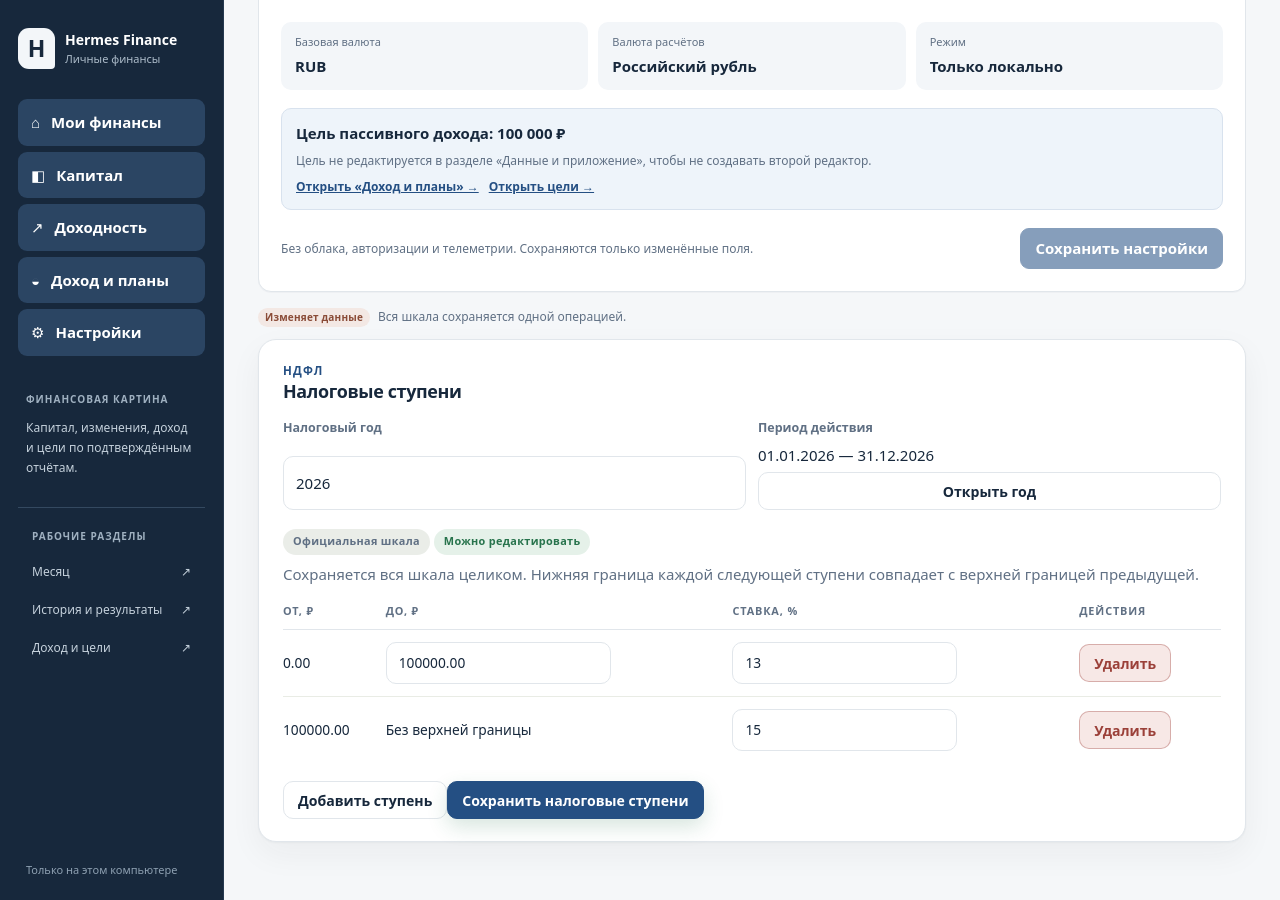
Test case: UI v2 Data/App › rejects a non-contiguous tax edit before the whole-set PUT
(page scrolled)
Clear the field named "Верхняя граница ступени 1" at (498, 663), box [386,642,611,684]
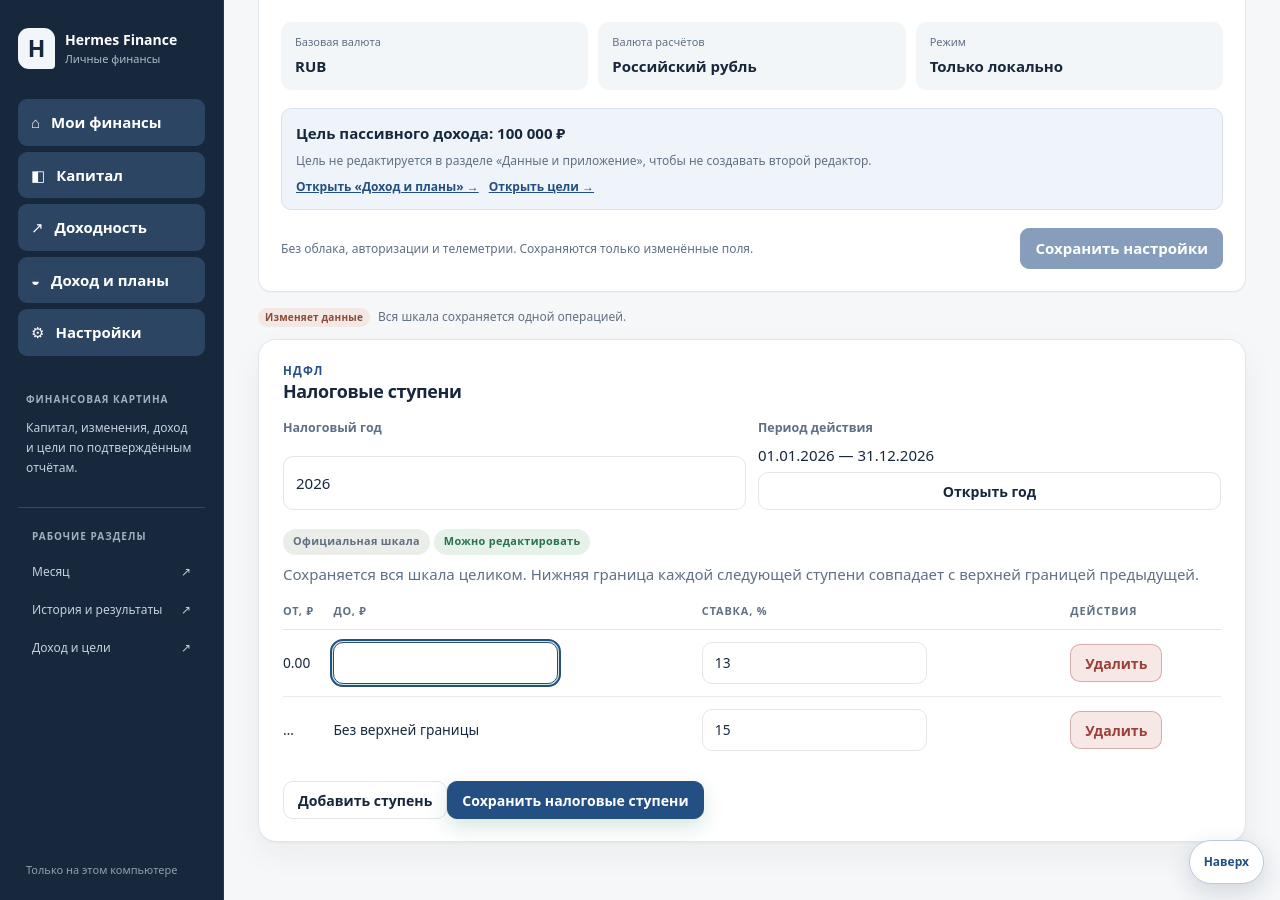
Type "0" into the field named "Верхняя граница ступени 1" at (446, 663), box [333,642,558,684]
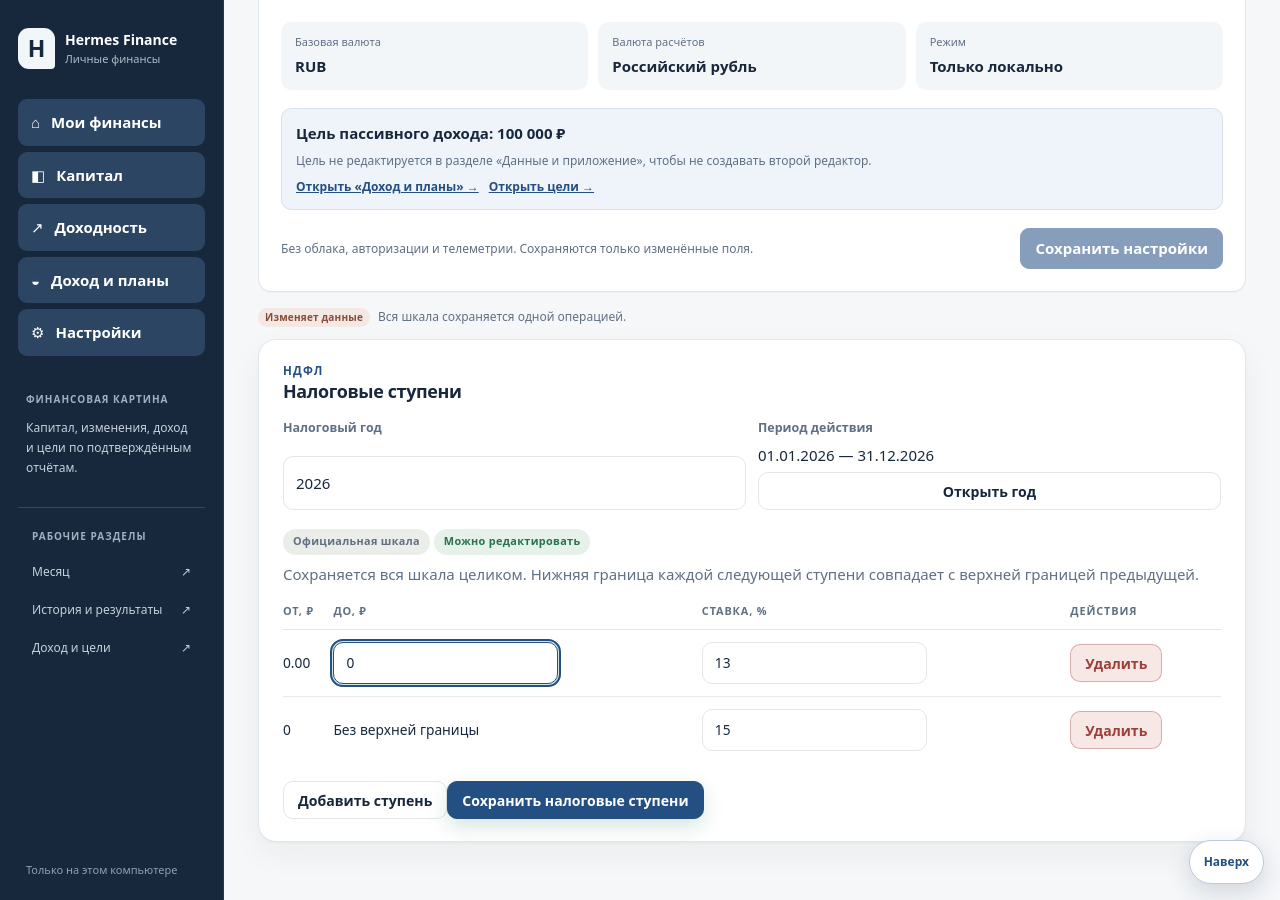
Click the button "Сохранить налоговые ступени" at (575, 800), box [447,781,704,819]
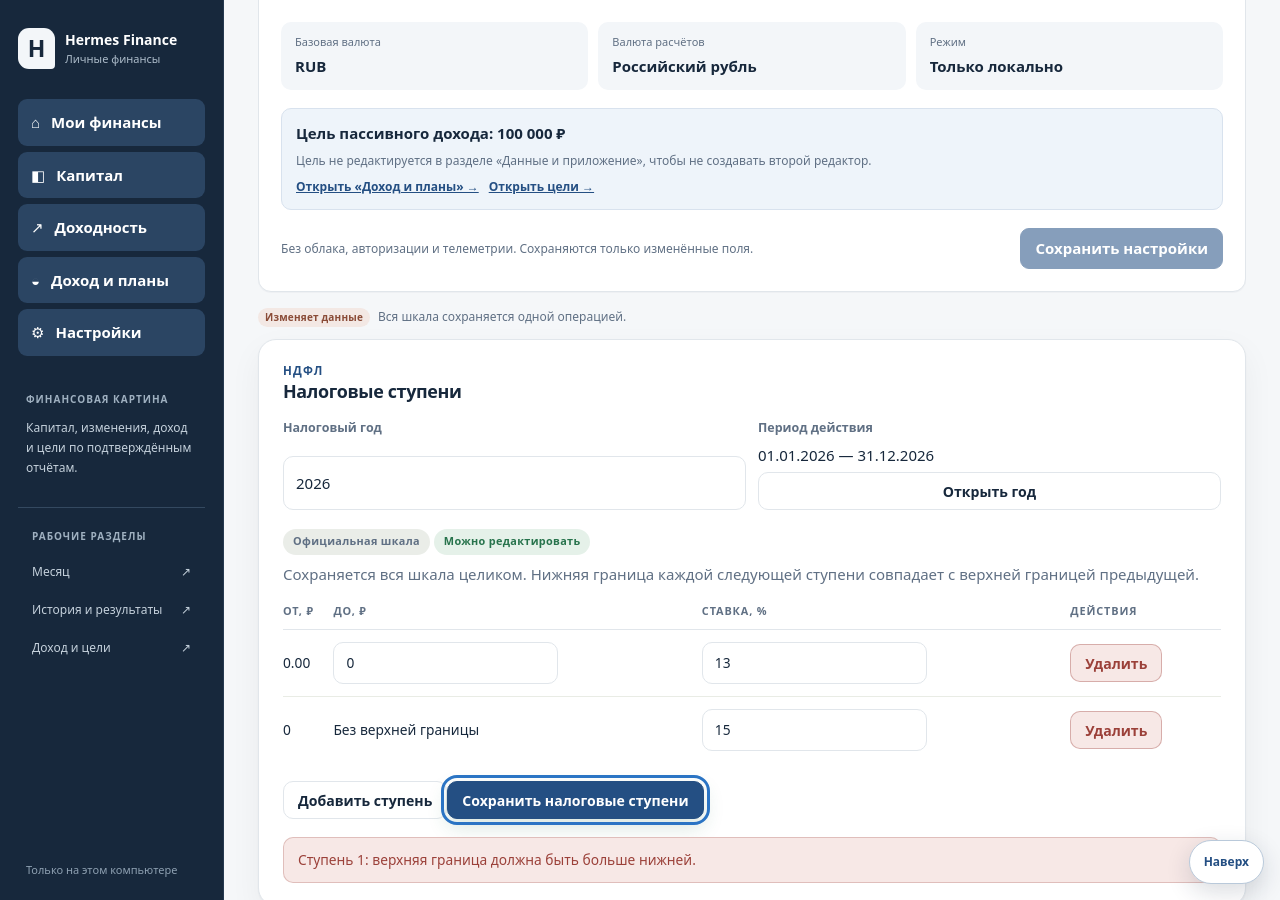
Check: the message shows "верхняя граница должна быть больше", box [298,850,696,869]
